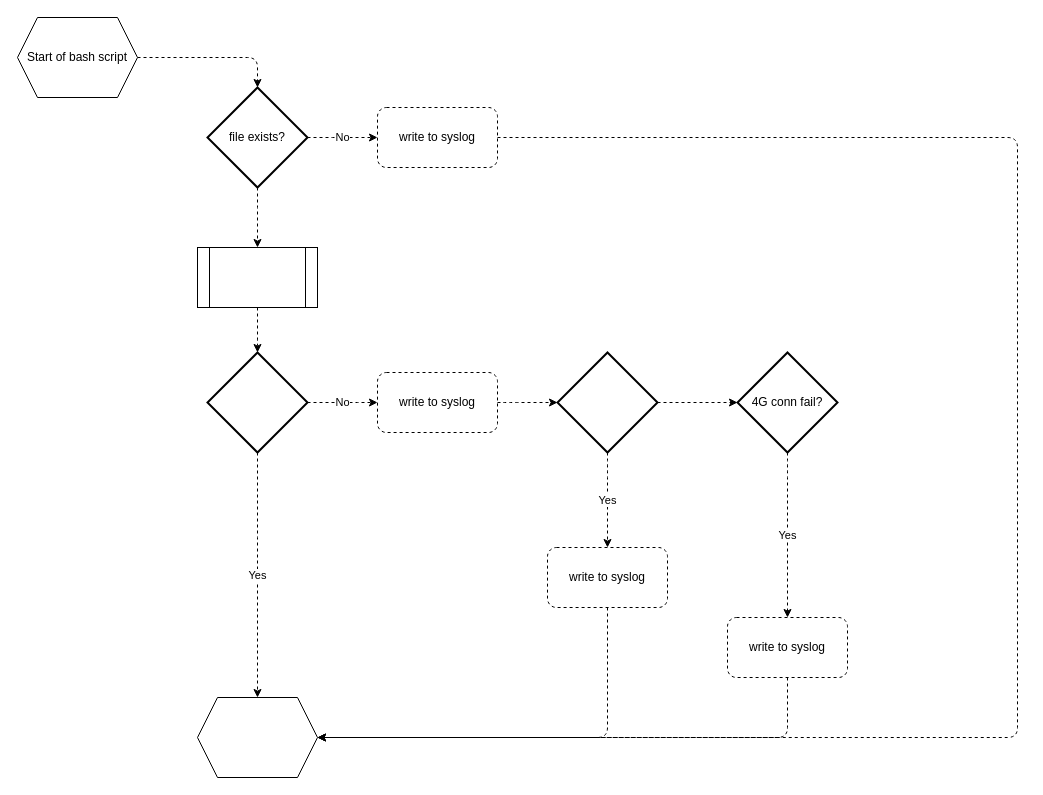
Image size: 1043x795. Some labels were removed from this diagram. The centre of each missing label's shape, as x and y in pixels:
"End of bash script" goes at point (257, 737).
"ftp file to destination" goes at point (257, 277).
"ftp ok?" goes at point (257, 402).
"weak 4G signal ?" goes at point (607, 402).
